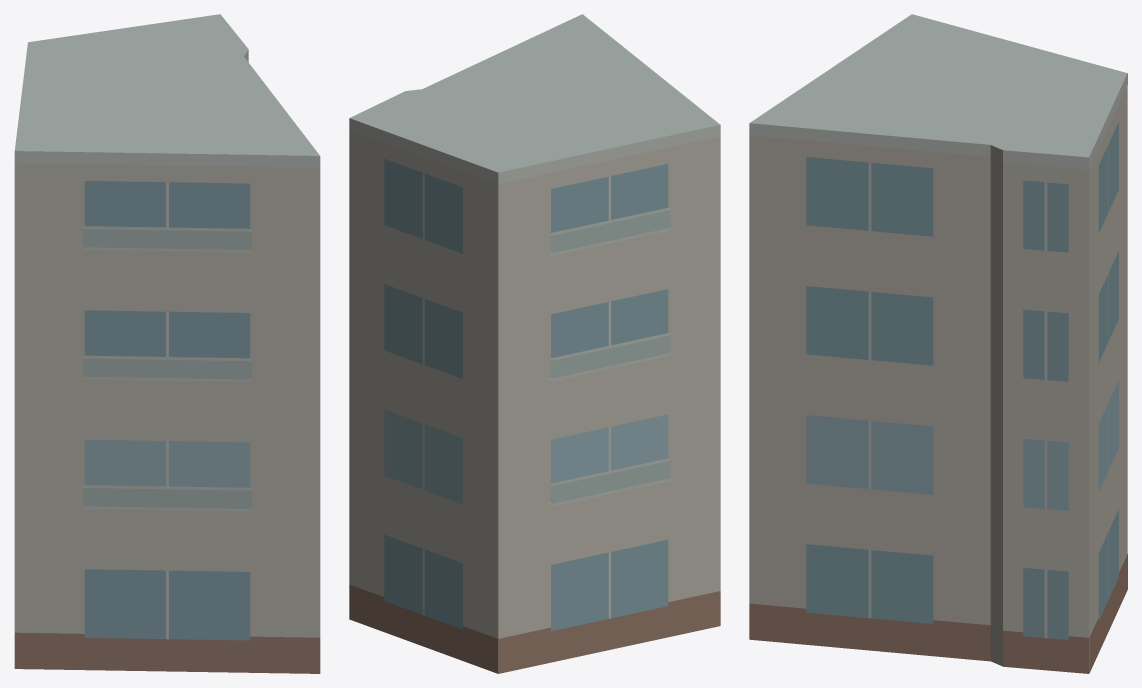
Rendered from survey-upis-33030756.glb.
3 views of the same model, side by side, from view 1: azimuth 30°, elevation 25°; view 2: azimuth 150°, elevation 25°; view 3: azimuth 270°, elevation 25° (orthographic). The views are drawn at different scales.
Parts seen in each view (by area): view 1: survey-upis-33030756.tmp; view 2: survey-upis-33030756.tmp; view 3: survey-upis-33030756.tmp.
Boxes of the visible parts, x1,y1,x2,y2 form: survey-upis-33030756.tmp: (14, 14, 320, 673); survey-upis-33030756.tmp: (349, 14, 720, 673); survey-upis-33030756.tmp: (749, 14, 1127, 673).
Bounding box in the file's own units: 6.26 × 10.5 × 6.98.
